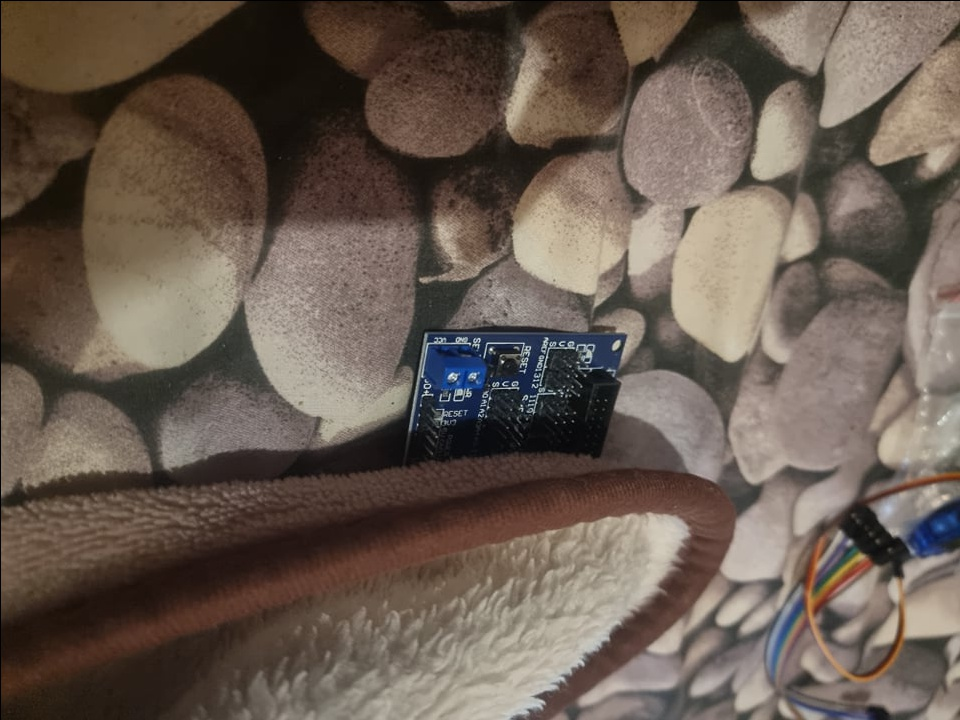5V EXPANSION: (412, 327, 637, 464)
